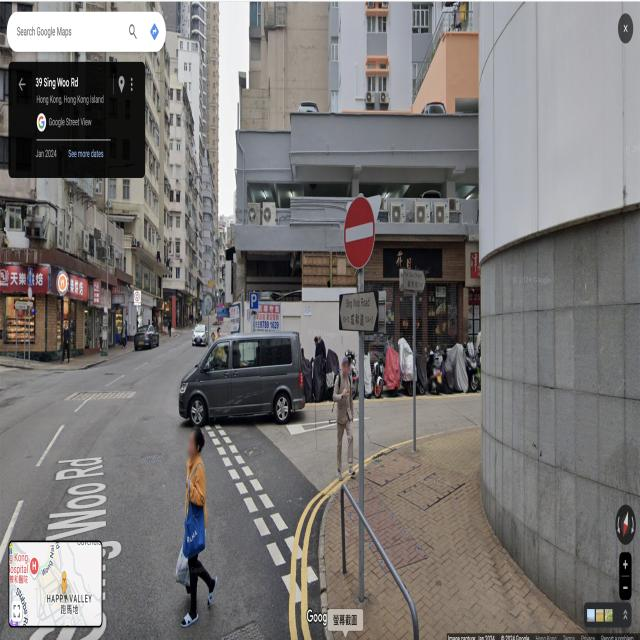Order-Sign: (344, 199, 375, 267)
Street-Direction-Sign: (338, 292, 378, 330), (404, 267, 426, 293), (14, 301, 28, 310)
